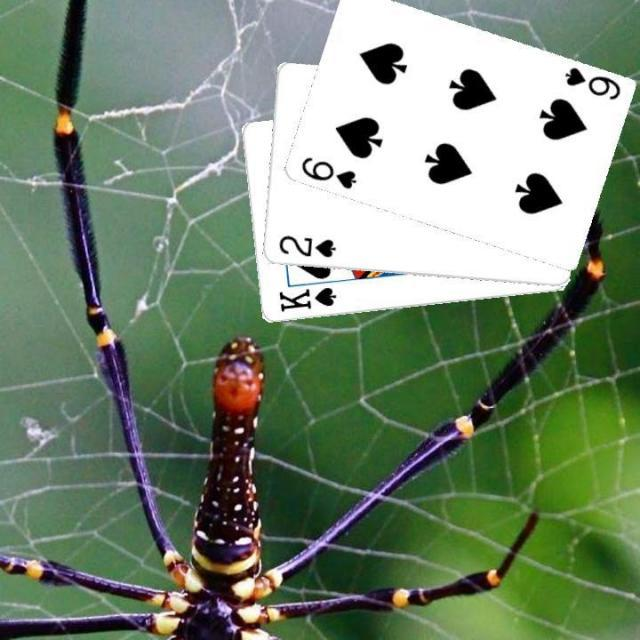2S: (274, 232, 338, 260)
6S: (560, 63, 622, 102), (296, 153, 358, 191)
KS: (274, 284, 338, 314)
